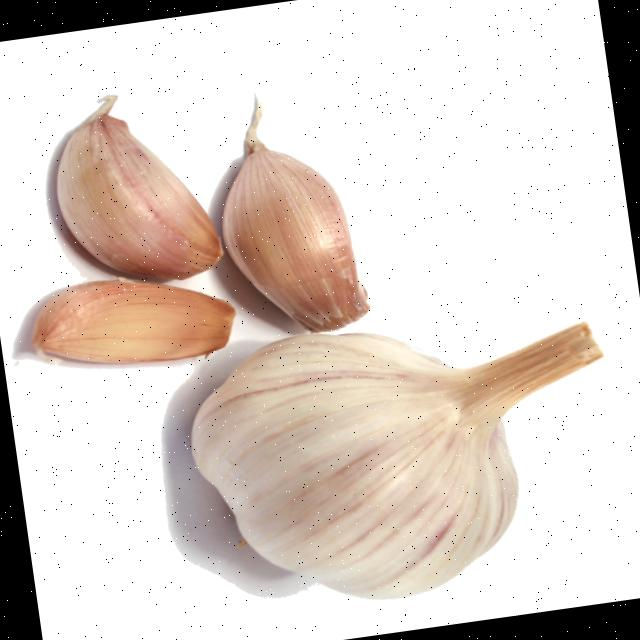garlic: (192, 322, 602, 598), (223, 101, 369, 331), (57, 95, 222, 278), (33, 280, 235, 362)
